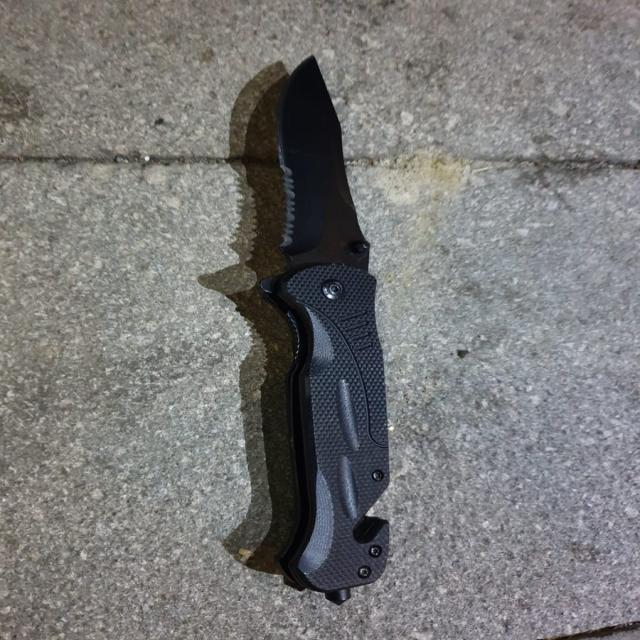Sharp-Object: (252, 56, 397, 610)
